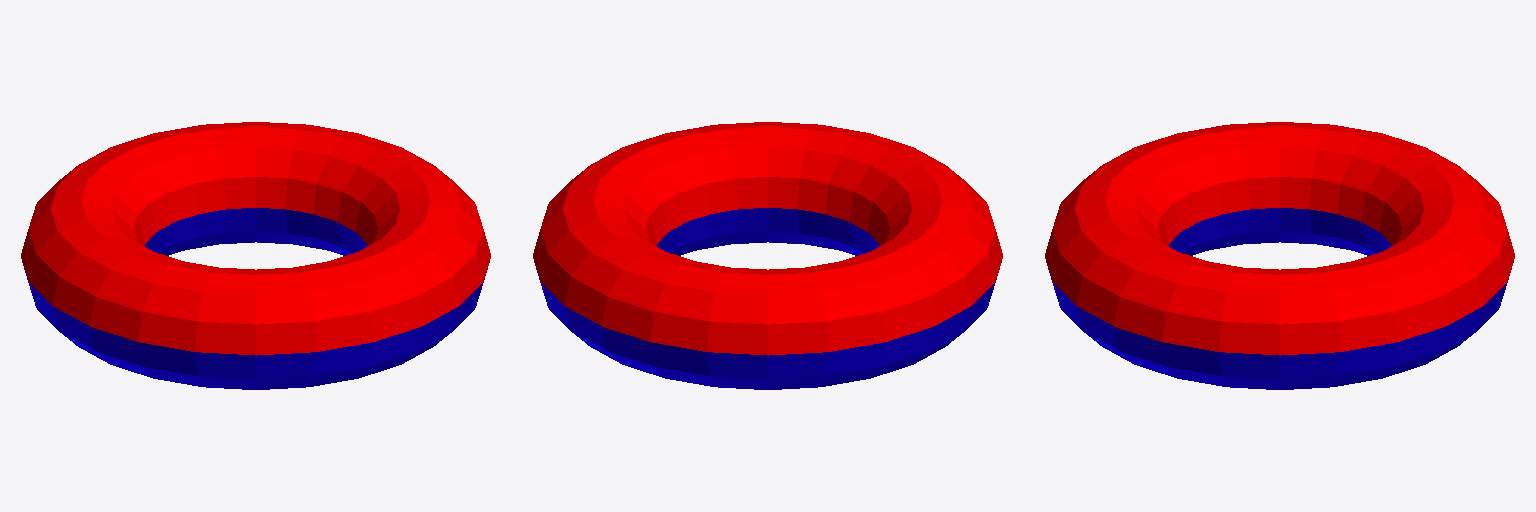
The model's file is beebleTwoMat.obj.
3 views of the same model, side by side, from view 1: azimuth 30°, elevation 25°; view 2: azimuth 150°, elevation 25°; view 3: azimuth 270°, elevation 25° (orthographic).
Visible parts, largest first — view 1: Torus01; view 2: Torus01; view 3: Torus01.
Boxes of the visible parts, x1,y1,x2,y2 form: Torus01: [21, 122, 490, 389]; Torus01: [533, 122, 1002, 389]; Torus01: [1045, 122, 1514, 389].
Size of the model in its own units: 5.44 by 1.4 by 5.44.